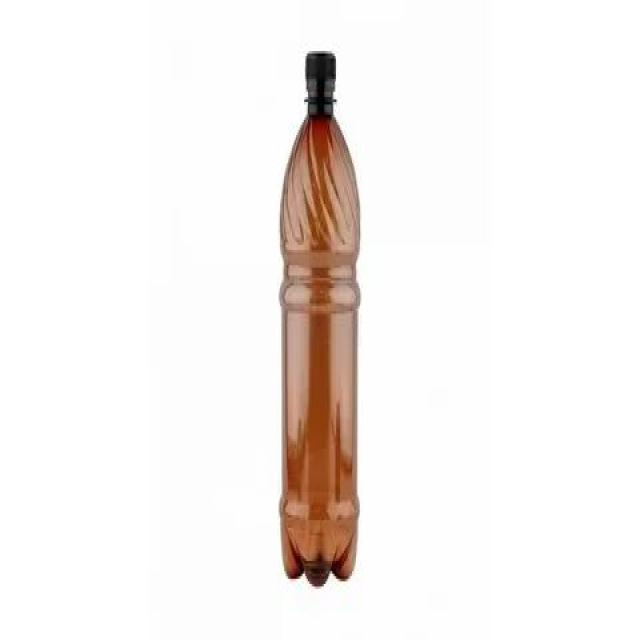brown: (278, 89, 360, 586)
